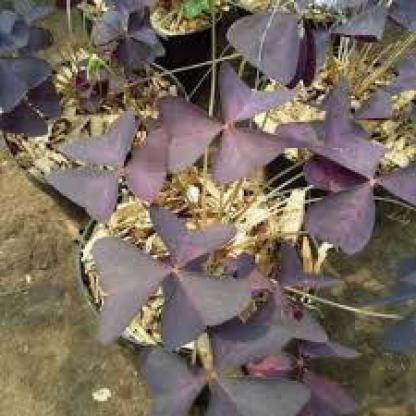Kupu-Kupu: (114, 236, 239, 332), (143, 330, 273, 415), (179, 79, 277, 190), (66, 123, 166, 190), (327, 142, 415, 218)
